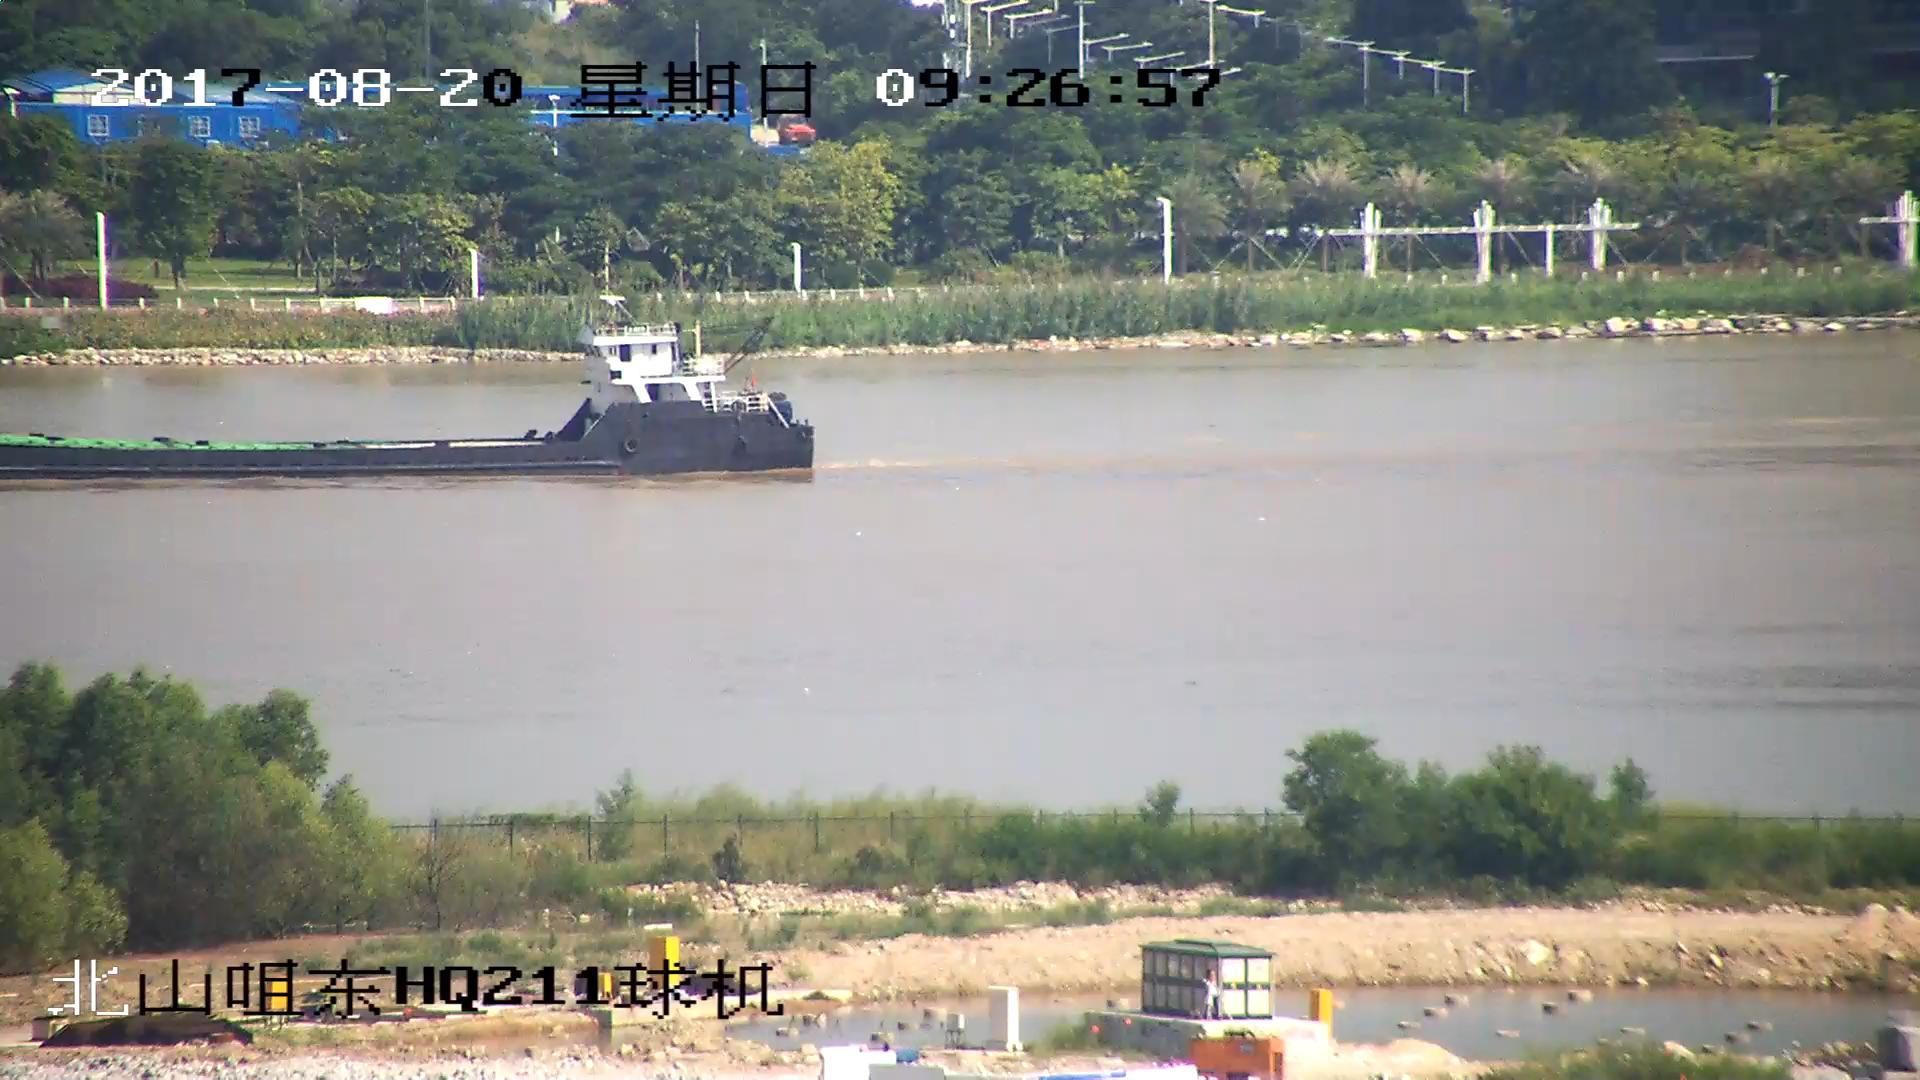Ship: (3, 320, 818, 485)
